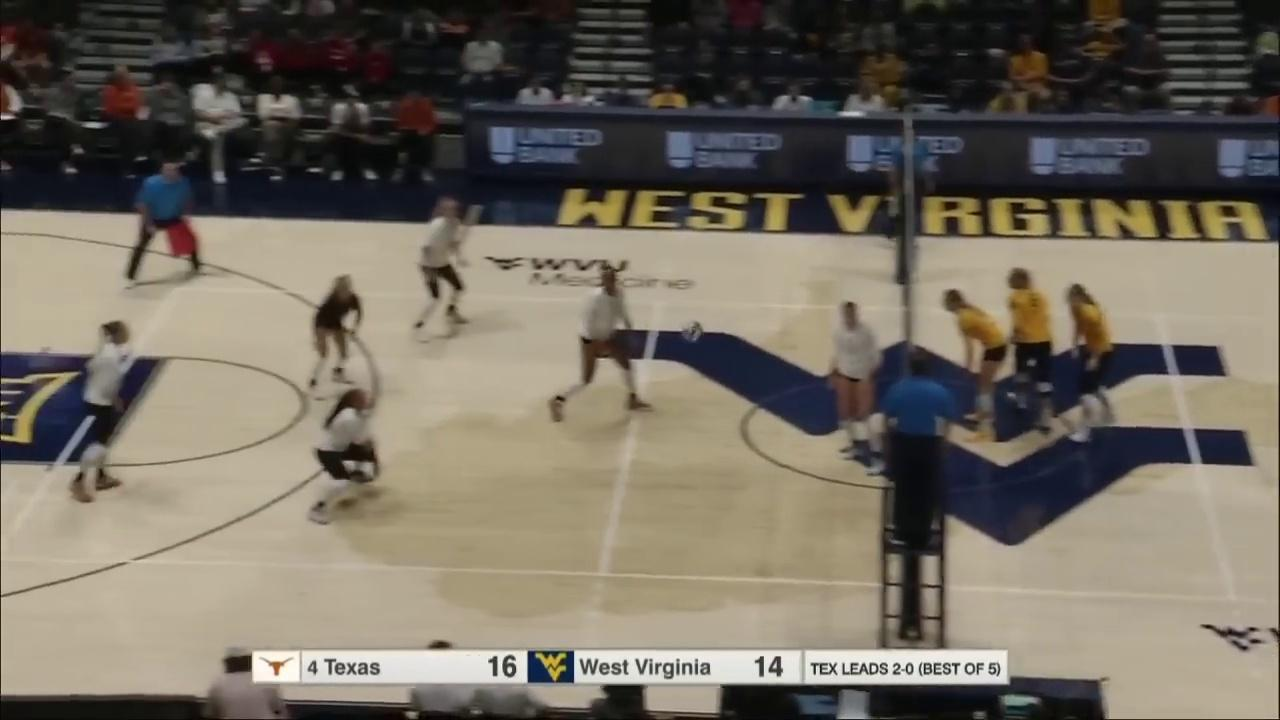player: (555, 271, 645, 414), (74, 325, 130, 499), (945, 293, 1006, 441), (312, 385, 372, 524), (1004, 271, 1051, 431), (415, 199, 466, 341), (1069, 293, 1116, 440), (834, 303, 874, 462), (312, 278, 363, 384)
refree: (889, 350, 943, 542), (130, 162, 204, 289), (894, 123, 926, 254)
